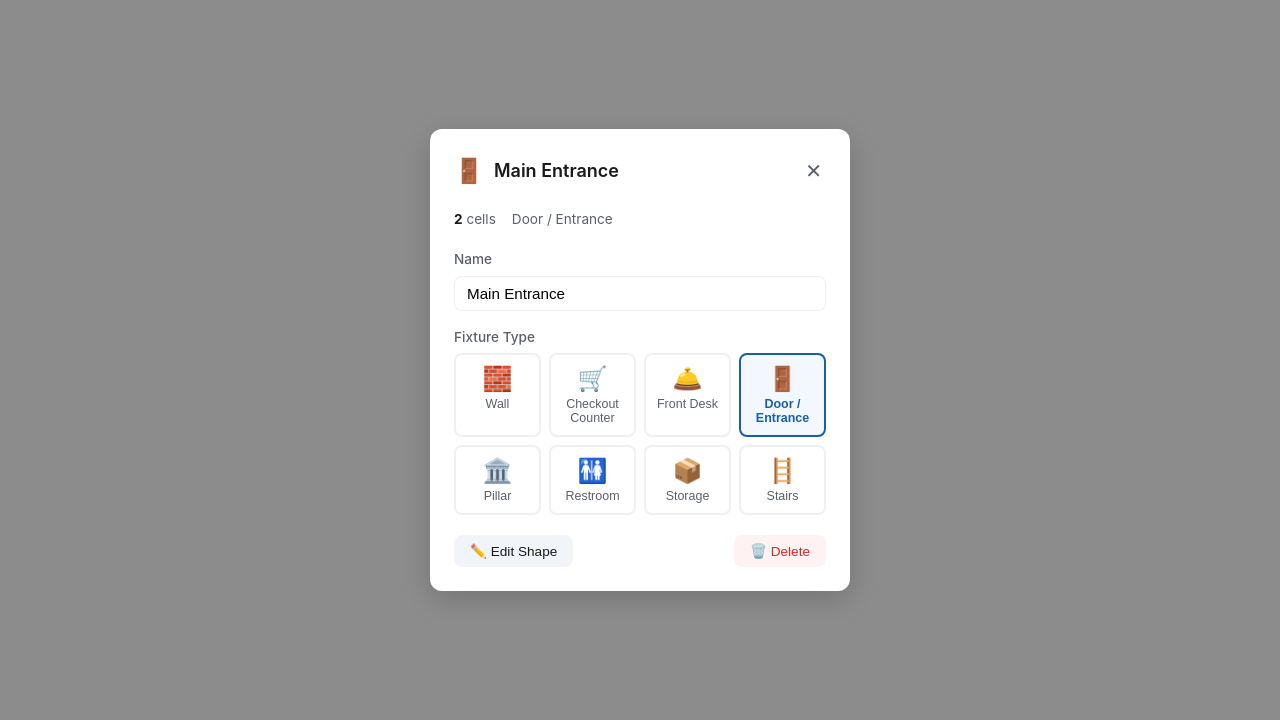
Test case: FixtureDetailModal › shows Save Changes when fixture type is changed
Click the button "🧱 Wall".
click(498, 395)  # box top-left (454, 353), bottom-right (541, 437)
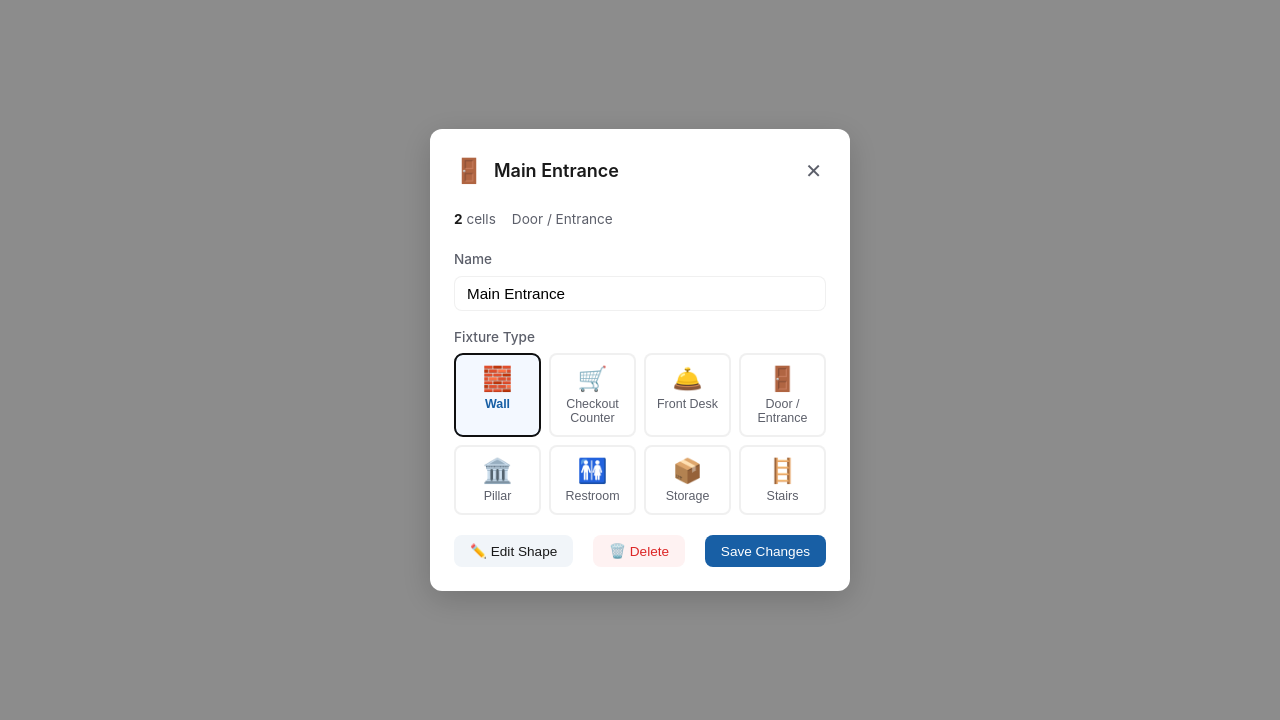
Check: the button "Save Changes" is shown, box top-left (705, 535), bottom-right (826, 567)
